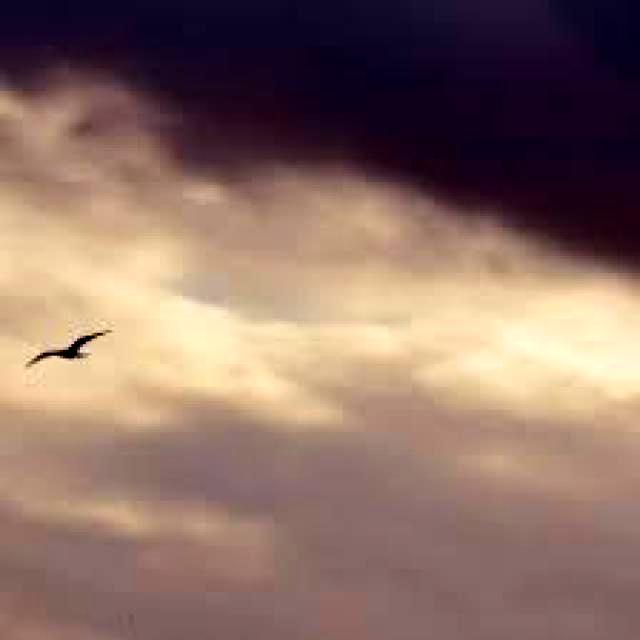bird: (20, 322, 110, 368)
